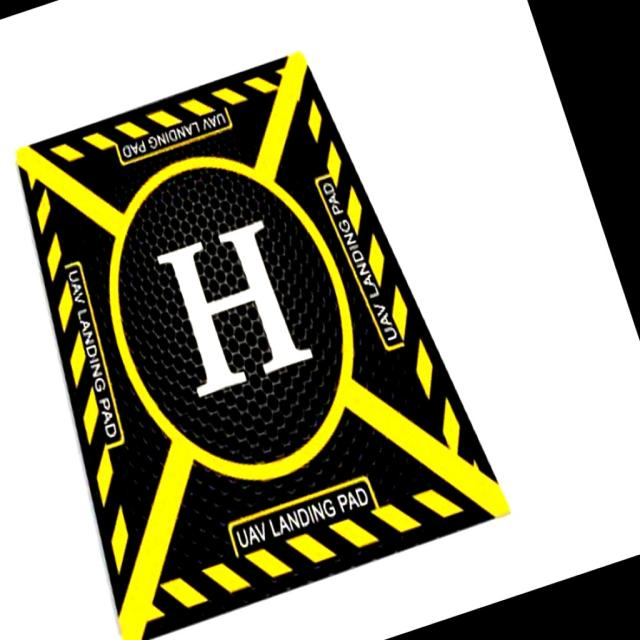helipad: (104, 153, 362, 484)
